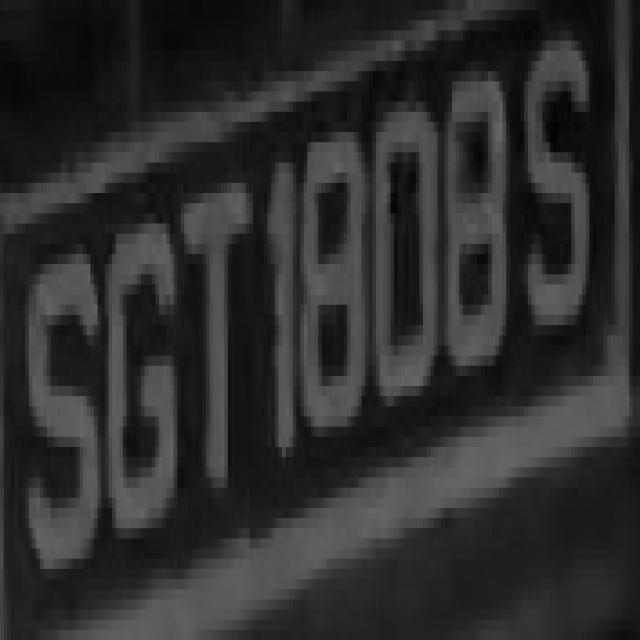0: (365, 61, 441, 427)
1: (256, 111, 304, 488)
8: (434, 10, 513, 417), (293, 91, 372, 478)
G: (98, 173, 177, 538)
S: (514, 10, 608, 366), (18, 233, 101, 620)
T: (170, 163, 253, 528)
